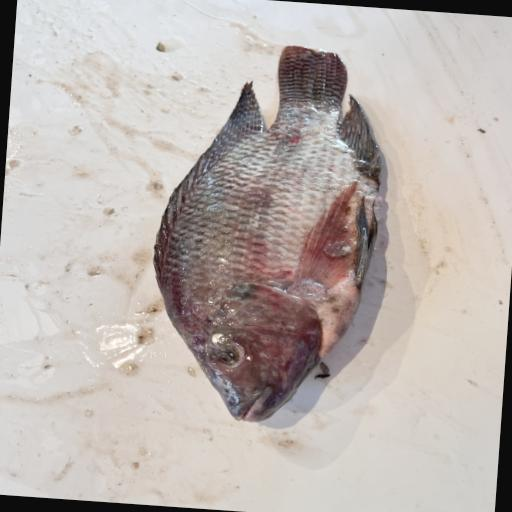Tilapia: (142, 37, 393, 431)
